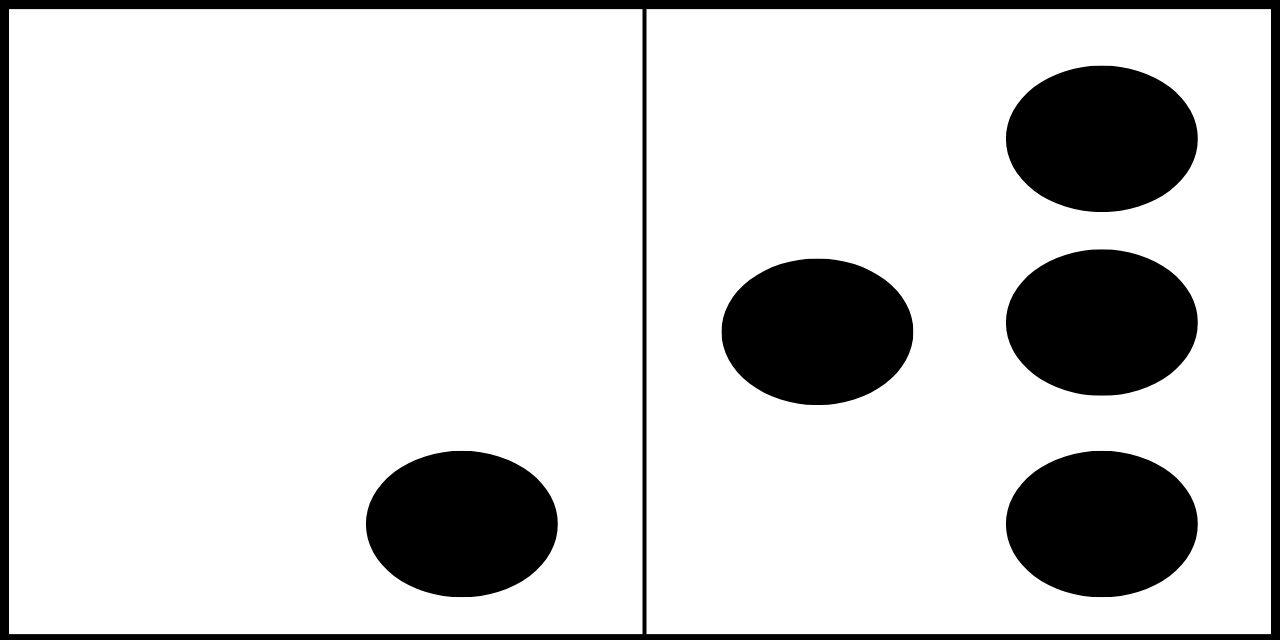capital_sign: (86, 65, 560, 597)
letter_W: (723, 65, 1196, 600)
